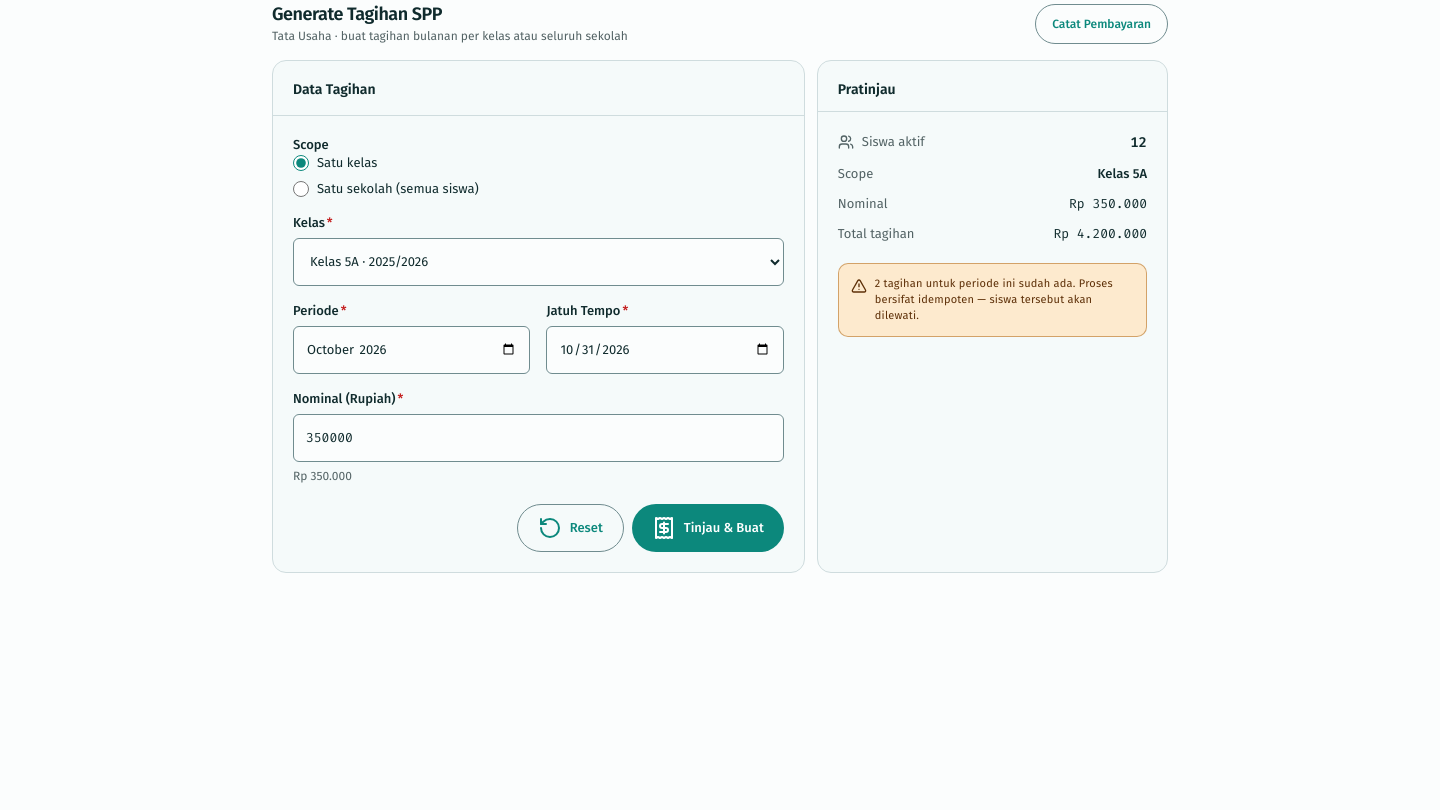
SppGeneratePage › shows an informational state when no students are in scope
Expected: the radio button labelled "Satu kelas" is shown, x1=293 y1=154 x2=309 y2=170
Click the button "Tinjau & Buat" at (708, 528), box x1=632 y1=504 x2=784 y2=552
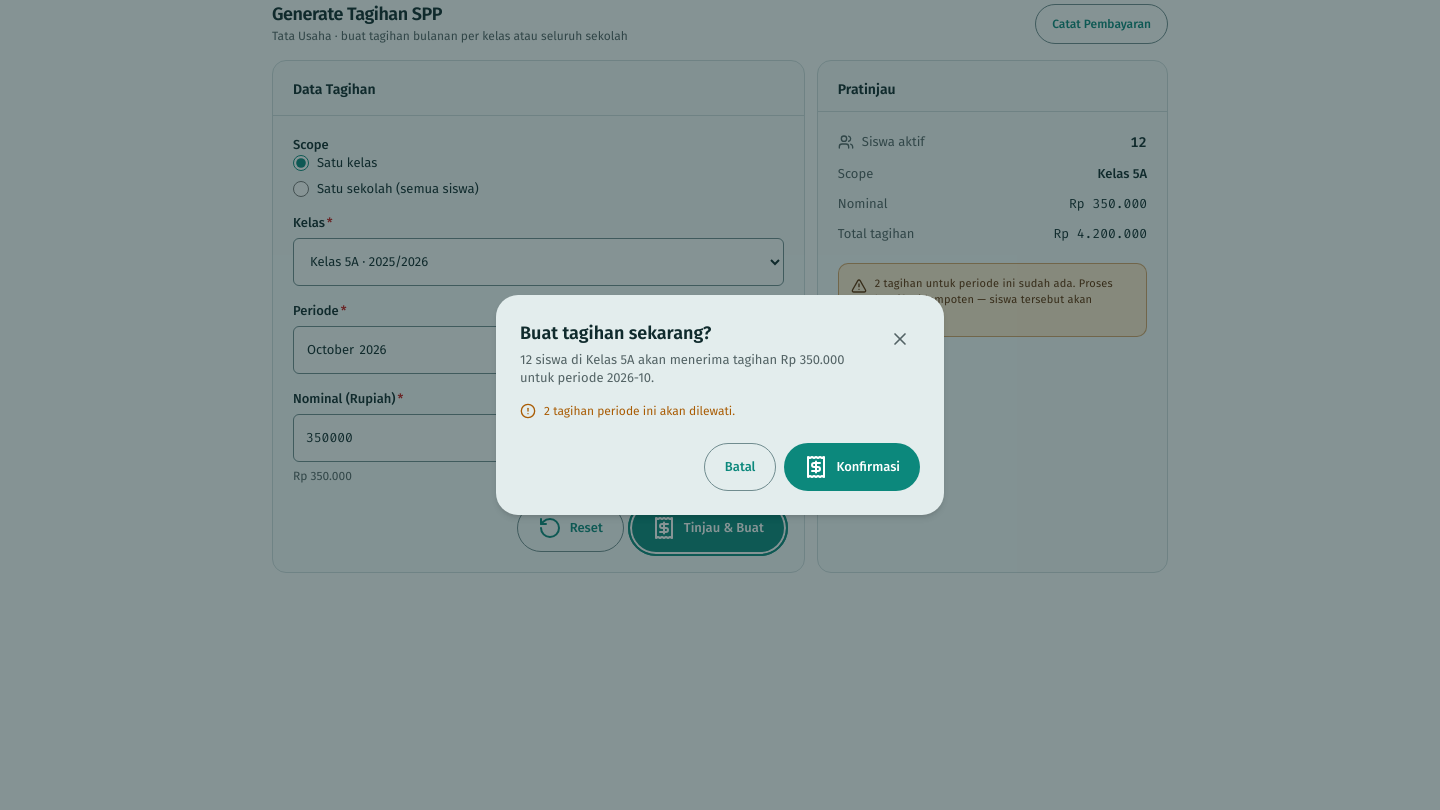
Click the button "Konfirmasi" at (852, 467), box x1=784 y1=443 x2=920 y2=491
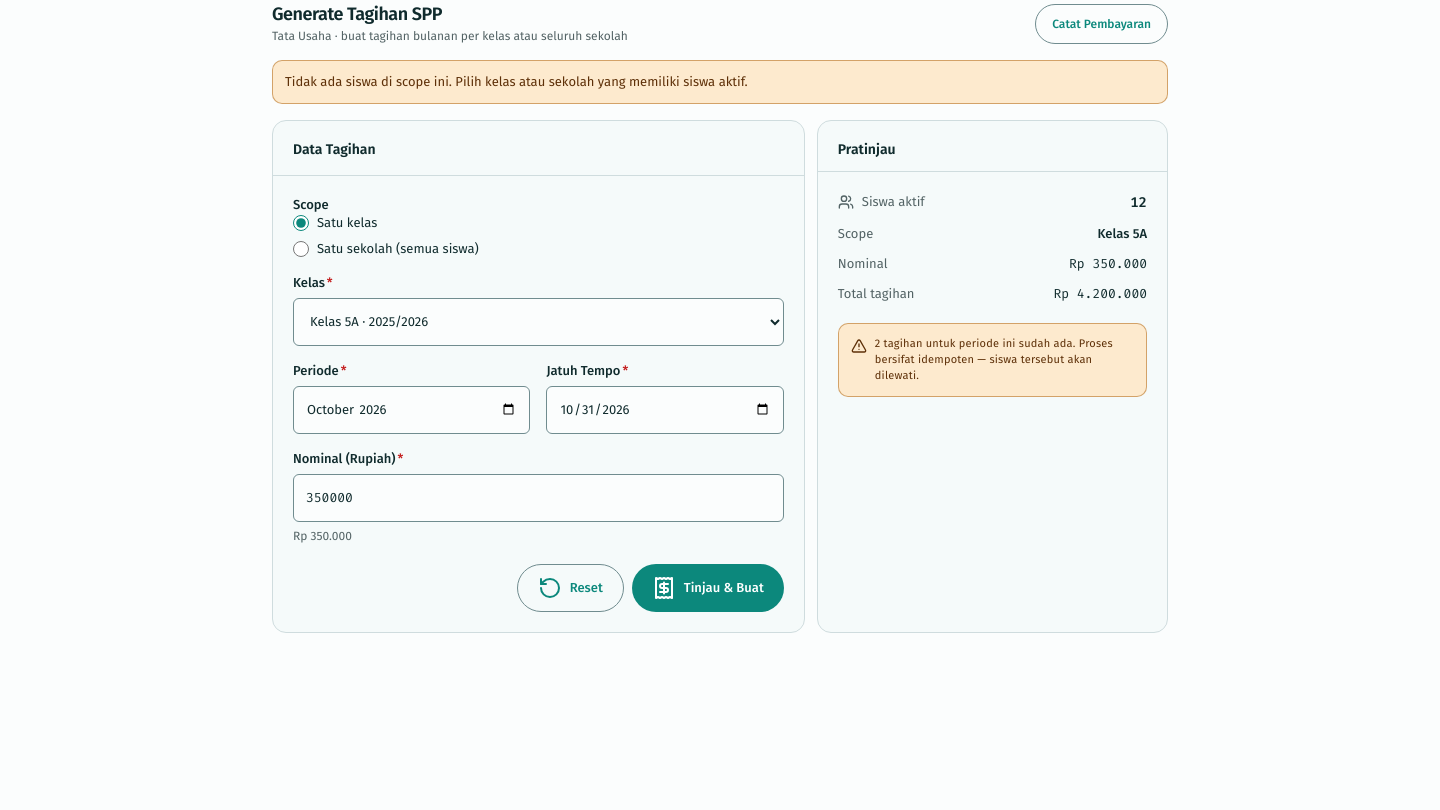
Expected: the text "Tidak ada siswa di scope ini. Pilih kelas atau sekolah yang memiliki siswa aktif." is shown, x1=285 y1=74 x2=748 y2=89
